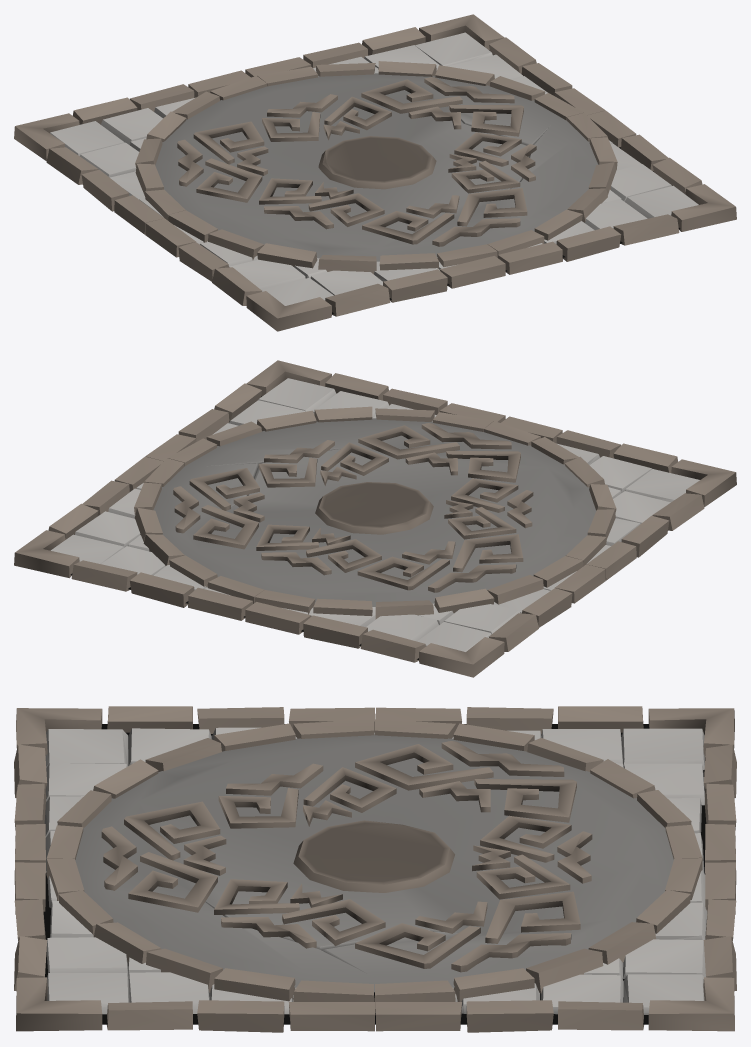
File: floor_decoration_A_LOW.FBX
3 renders of one model, top to bottom at view 1: azimuth 30°, elevation 25°; view 2: azimuth 150°, elevation 25°; view 3: azimuth 270°, elevation 25°, orthographic. The views are drawn at different scales.
Visible parts, largest first — view 1: floor_decoration_A_LOW; view 2: floor_decoration_A_LOW; view 3: floor_decoration_A_LOW.
Boxes of the visible parts, <box> form: floor_decoration_A_LOW: <box>14,14,736,331</box>; floor_decoration_A_LOW: <box>14,360,736,677</box>; floor_decoration_A_LOW: <box>14,706,736,1032</box>.
Bounding box in the file's own units: 4.09 × 0.1798 × 4.06.
